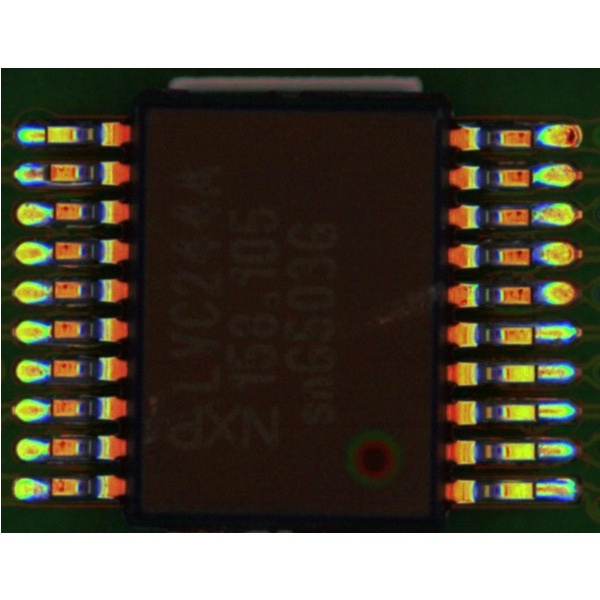Bad_podu: (29, 168, 60, 180), (522, 366, 546, 380), (31, 129, 56, 141), (525, 445, 549, 457), (524, 406, 547, 418), (523, 484, 546, 496), (527, 329, 547, 340)
Bad_qiaojiao: (42, 182, 90, 187)
